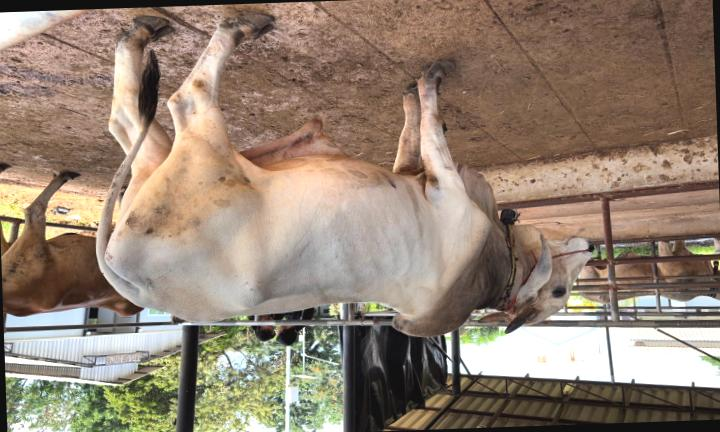Brahman: (97, 15, 592, 336)
